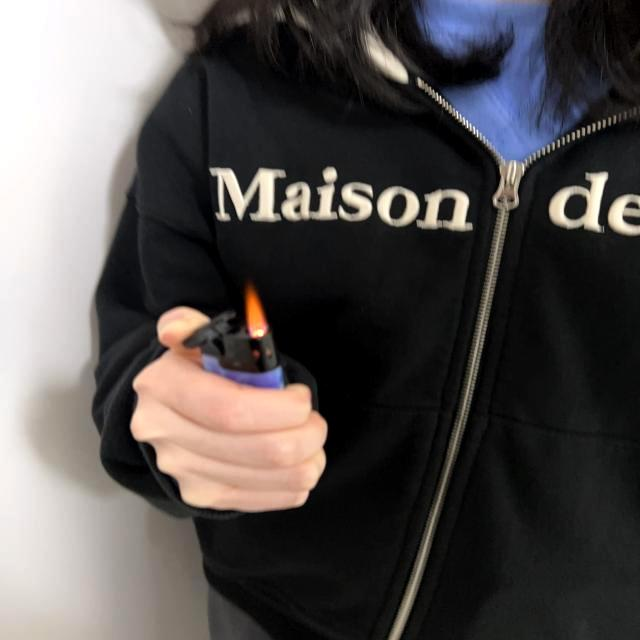fire: (242, 280, 270, 338)
